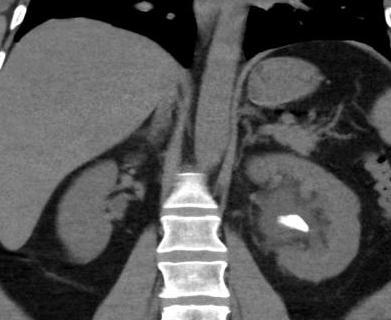Tas_Var: (272, 211, 316, 234)
